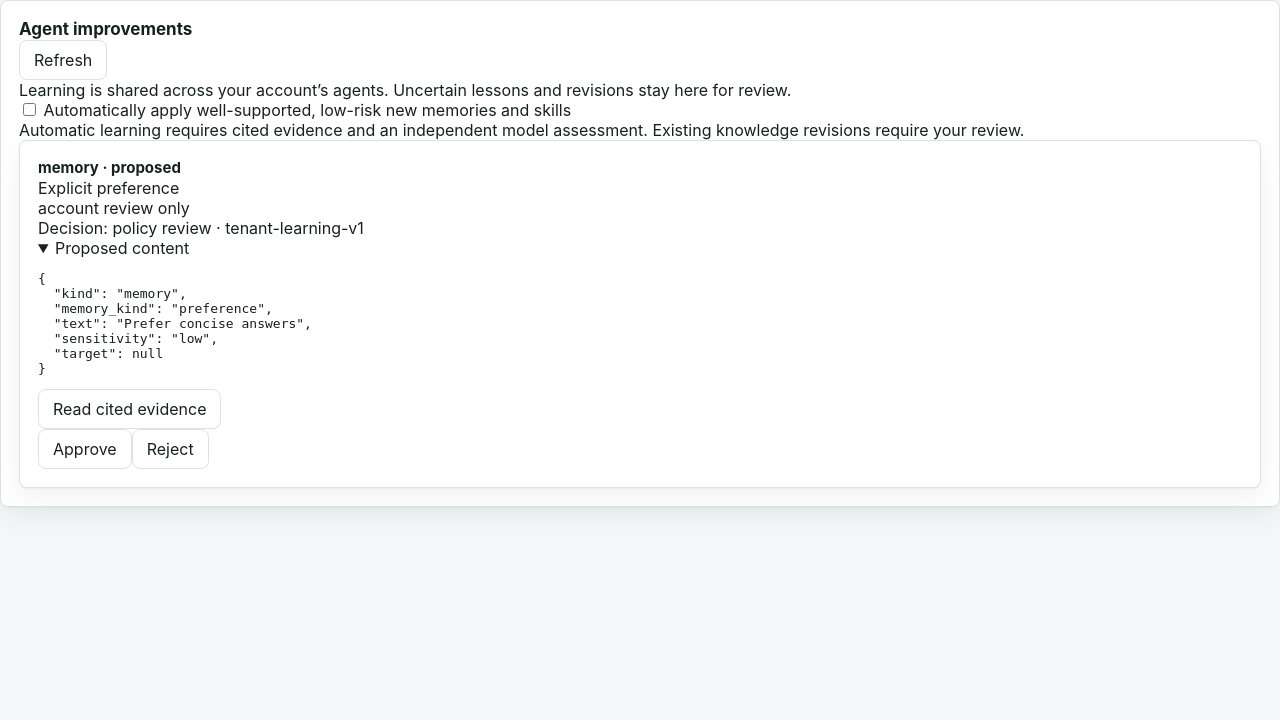
AgentImprovements › saves standing consent, reviews exact content, reads evidence and undoes
Expected: the text "Explicit preference" is shown, [38,178,179,198]
Click the checkbox: (30, 110) [23,103,36,116]
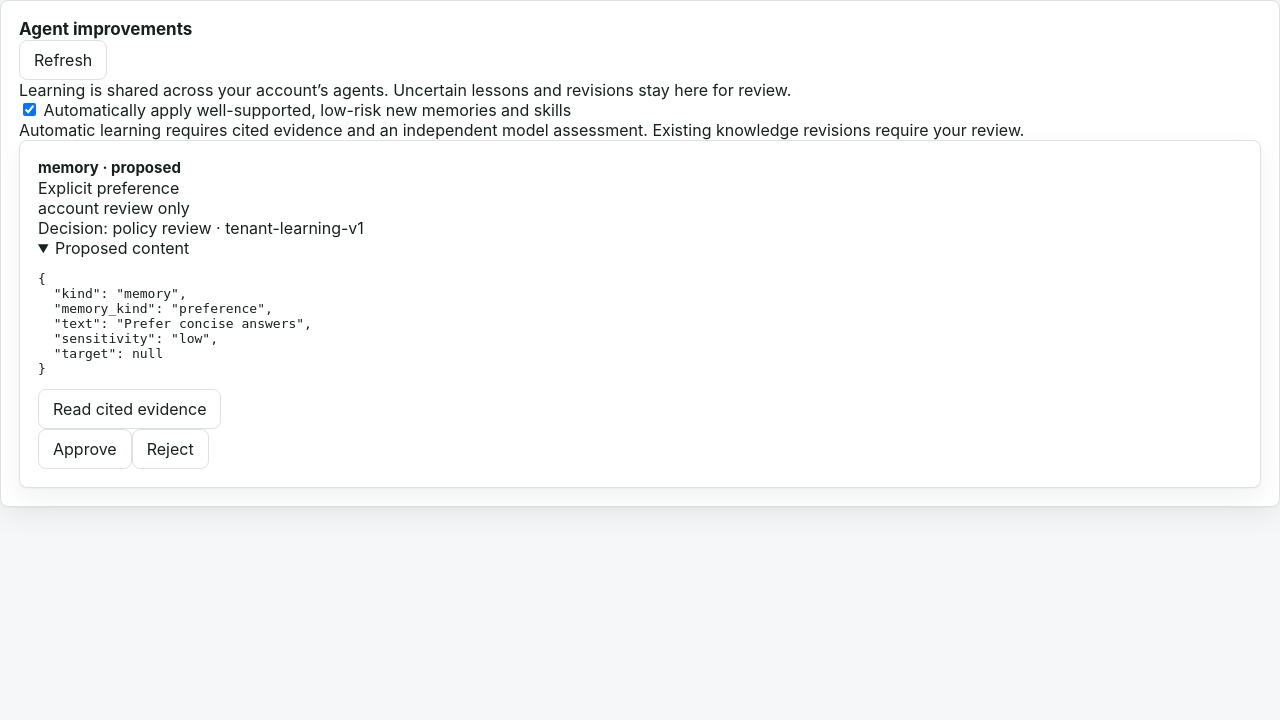
Click the button "Read cited evidence": (130, 409) [38,389,222,429]
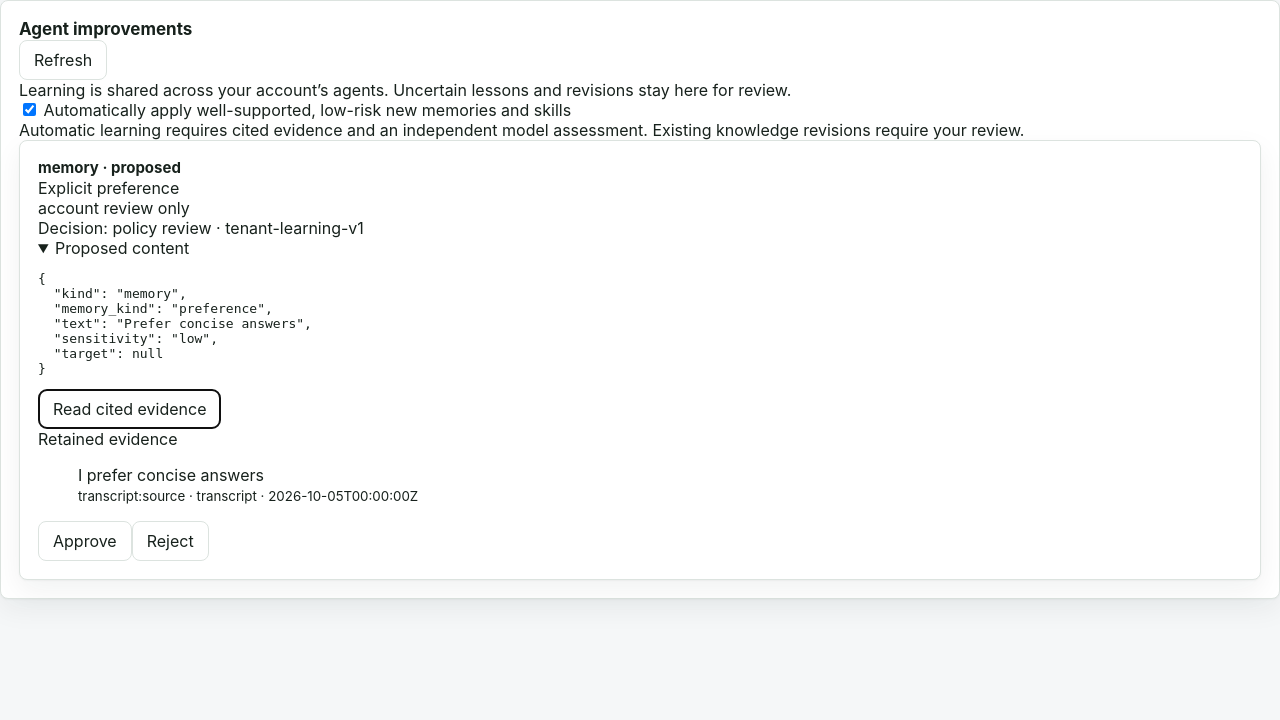
Result: the text "I prefer concise answers" is shown at [78,465,264,485]
Click the button "Approve": (85, 541) [38,521,132,561]
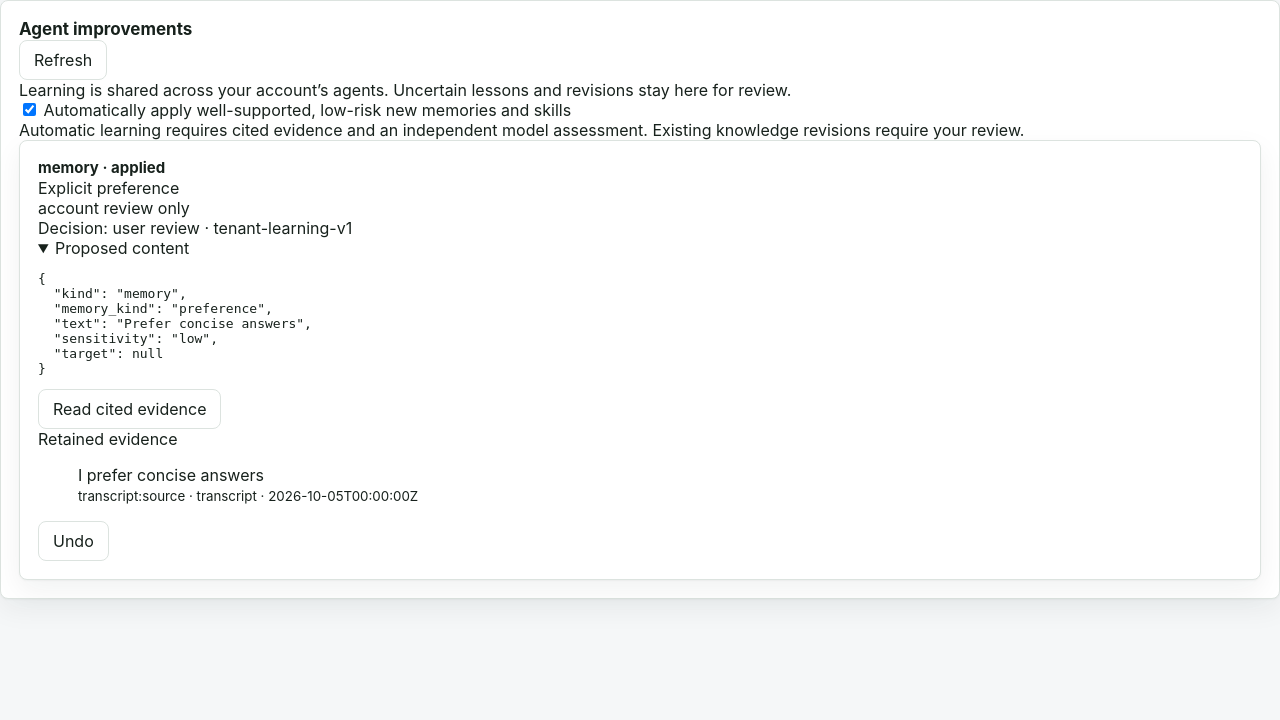
Result: the button "Undo" is shown
Click the button "Undo": (73, 541) [38,521,109,561]
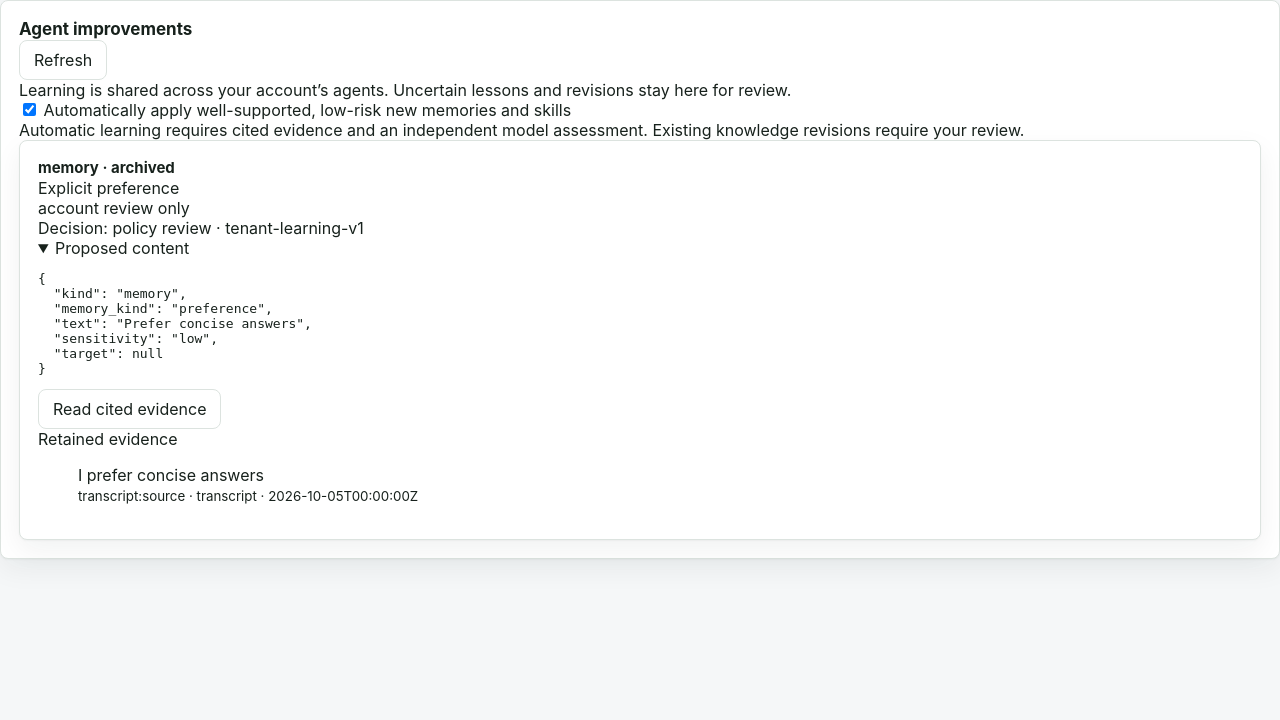
Result: the heading "memory · archived" is shown at [38,158,175,177]
